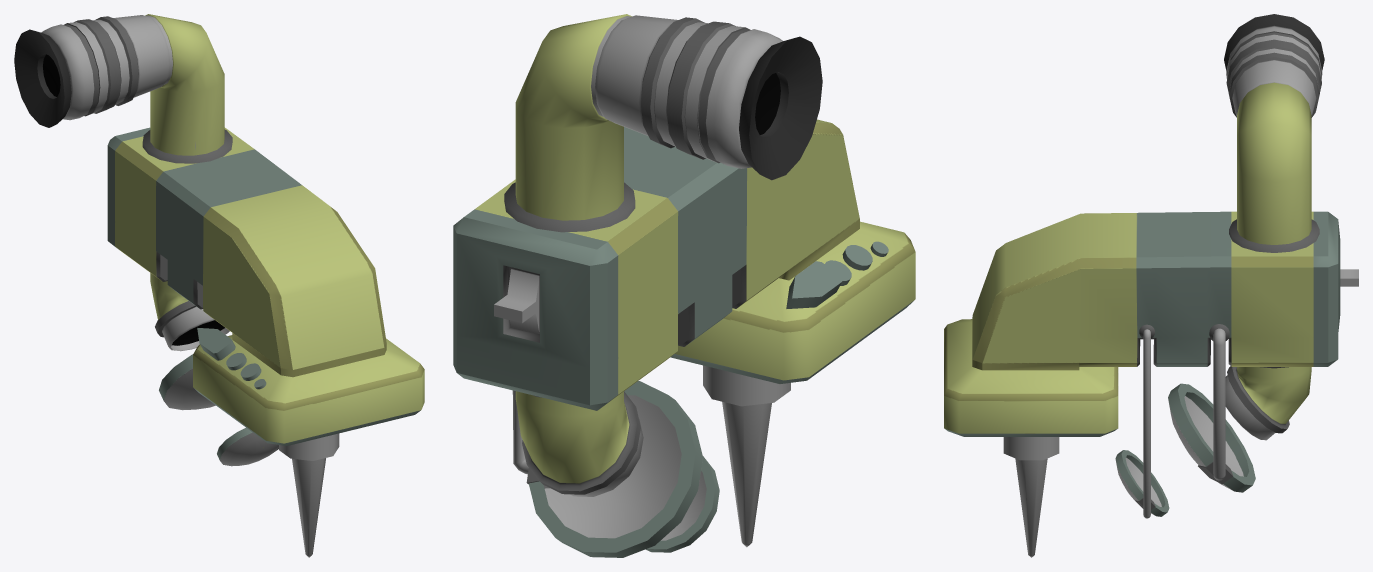
File: mdlCompositeInjector.fbx
The picture shows the model from 3 angles, left to right: view 1: azimuth 30°, elevation 25°; view 2: azimuth 150°, elevation 25°; view 3: azimuth 270°, elevation 25°; orthographic projection. The views are drawn at different scales.
Visible parts, largest first — view 1: Injector, Lenses; view 2: Injector, Lenses; view 3: Injector, Lenses.
Boxes of the visible parts, x1,y1,x2,y2 form: Injector: (14,14,424,557); Lenses: (43,54,278,466); Injector: (453,14,915,557); Lenses: (544,73,780,540); Injector: (944,14,1358,557); Lenses: (1115,396,1243,515).
Bounding box in the file's own units: 0.3626 × 0.7187 × 0.5727.
